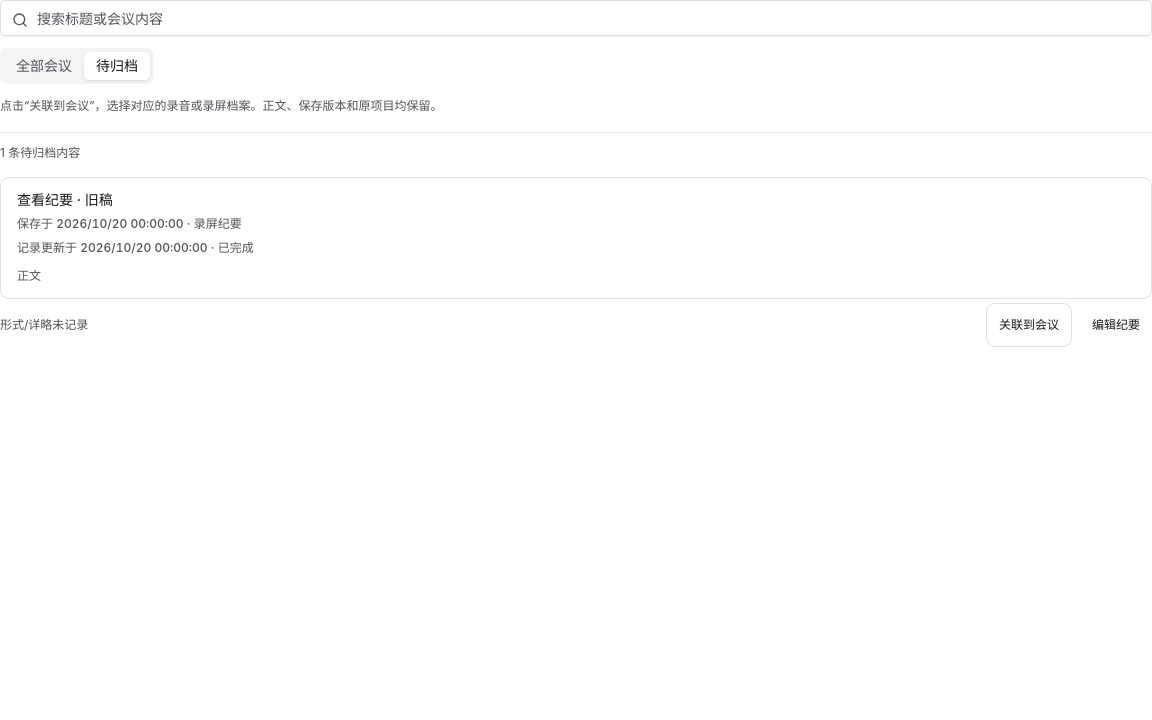
Test: restores keyboard focus to the pending action after Escape without submitting
Click the button with aria-label "关联《旧稿》到会议" at (1029, 325), box top-left (986, 303), bottom-right (1072, 347)
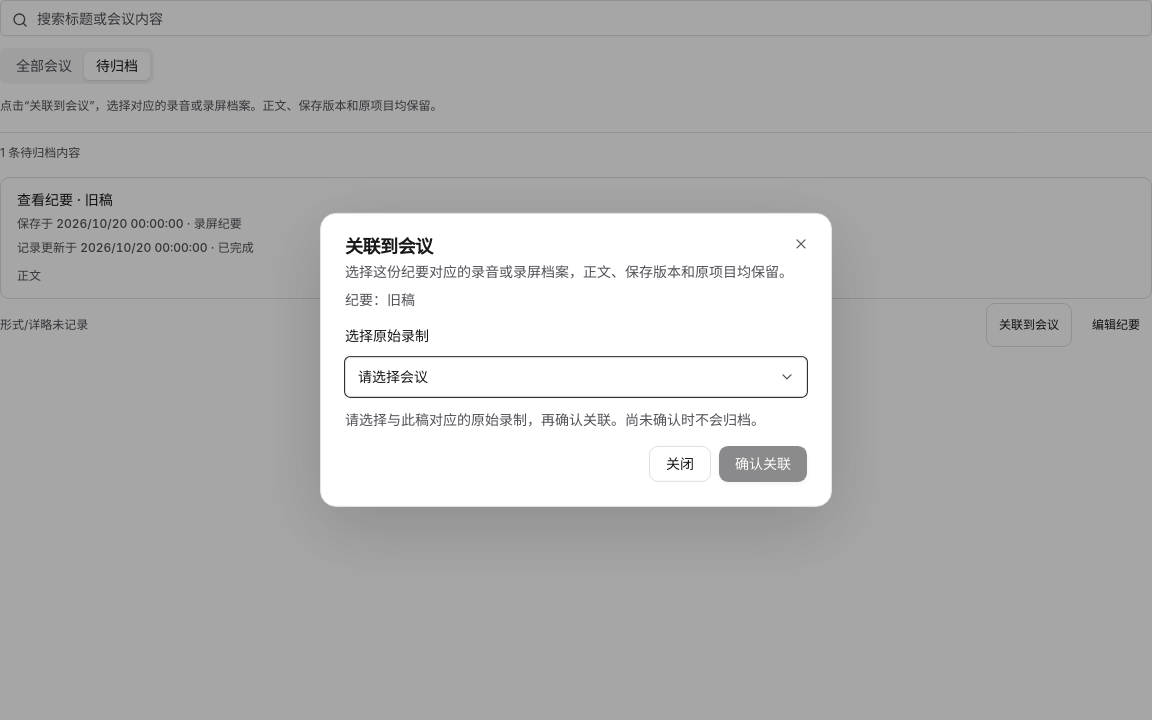
Now the dropdown is shown, box top-left (345, 357), bottom-right (807, 397)
Press Escape
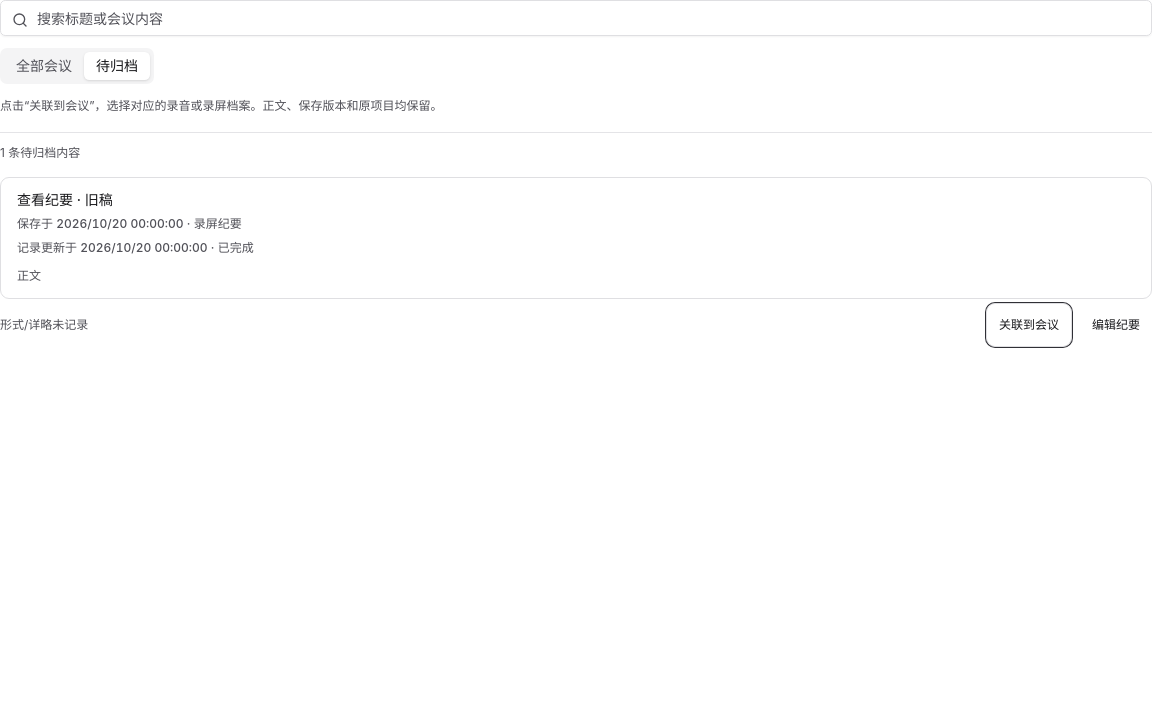
Now the dialog is gone
